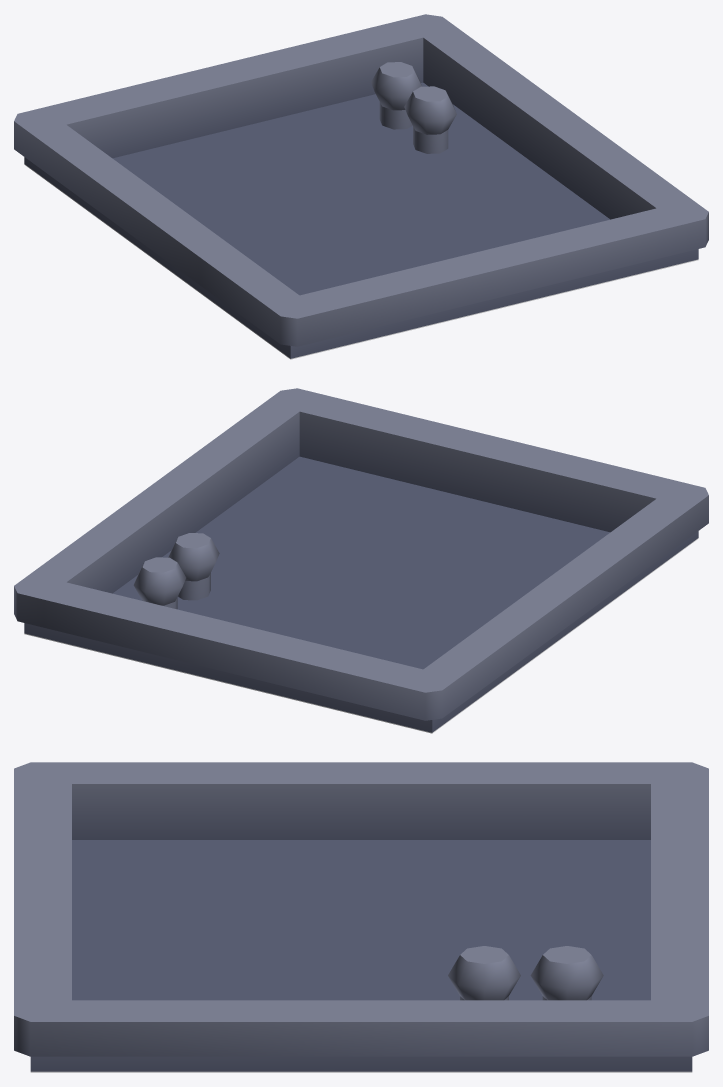
The model's file is commercial-f.glb.
3 renders of one model, top to bottom at view 1: azimuth 30°, elevation 25°; view 2: azimuth 150°, elevation 25°; view 3: azimuth 270°, elevation 25°, orthographic. The views are drawn at different scales.
Visible parts, largest first — view 1: building-f; view 2: building-f; view 3: building-f.
Part boxes in pixels (box(x1,y1,x2,y2)): building-f: box(14, 14, 708, 359); building-f: box(14, 388, 708, 733); building-f: box(14, 762, 708, 1072).
Size of the model in its own units: 10.6 by 1.26 by 12.
1 material, 1 textured.
